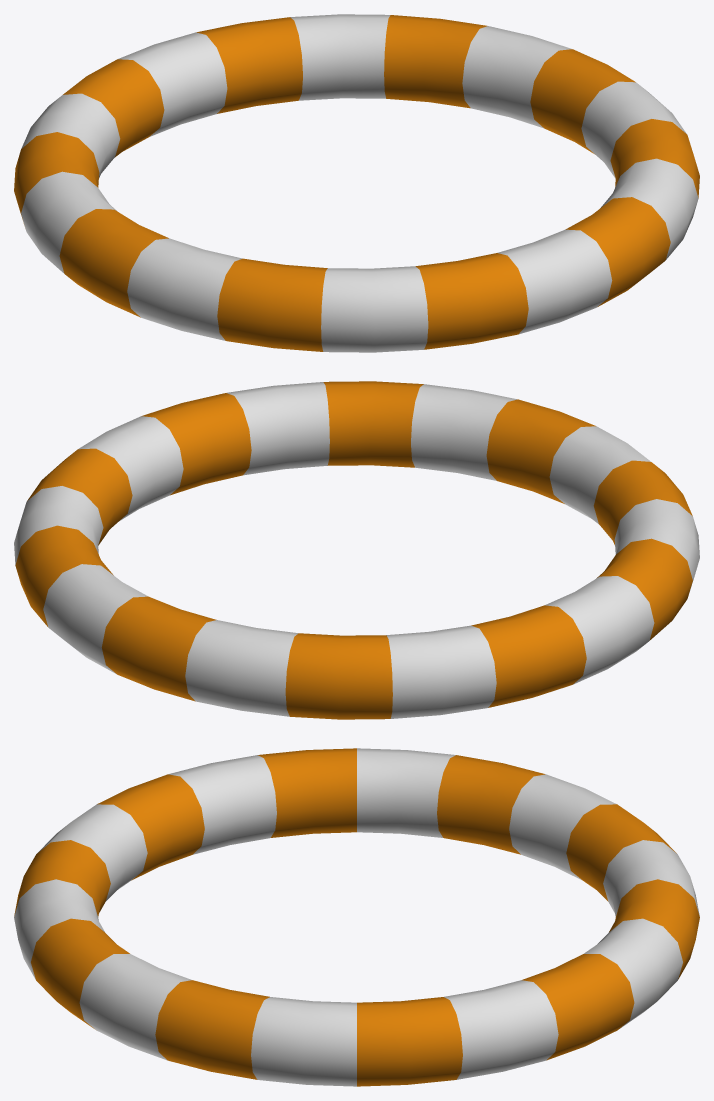
File: SM_Goal.fbx
The picture shows the model from 3 angles, top to bottom: view 1: azimuth 30°, elevation 25°; view 2: azimuth 150°, elevation 25°; view 3: azimuth 270°, elevation 25°; orthographic projection.
Parts seen in each view (by area): view 1: SM_Goal; view 2: SM_Goal; view 3: SM_Goal.
Boxes of the visible parts, bbox=[...] form: SM_Goal: bbox=[14, 14, 699, 352]; SM_Goal: bbox=[14, 381, 699, 719]; SM_Goal: bbox=[14, 748, 699, 1086].
Bounding box in the file's own units: 4.56 × 4.56 × 0.56.
